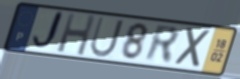8: (120, 22, 151, 62)
H: (55, 12, 97, 58)
J: (29, 9, 66, 52)
R: (143, 23, 181, 66)
U: (88, 15, 126, 59)
X: (173, 26, 214, 70)
